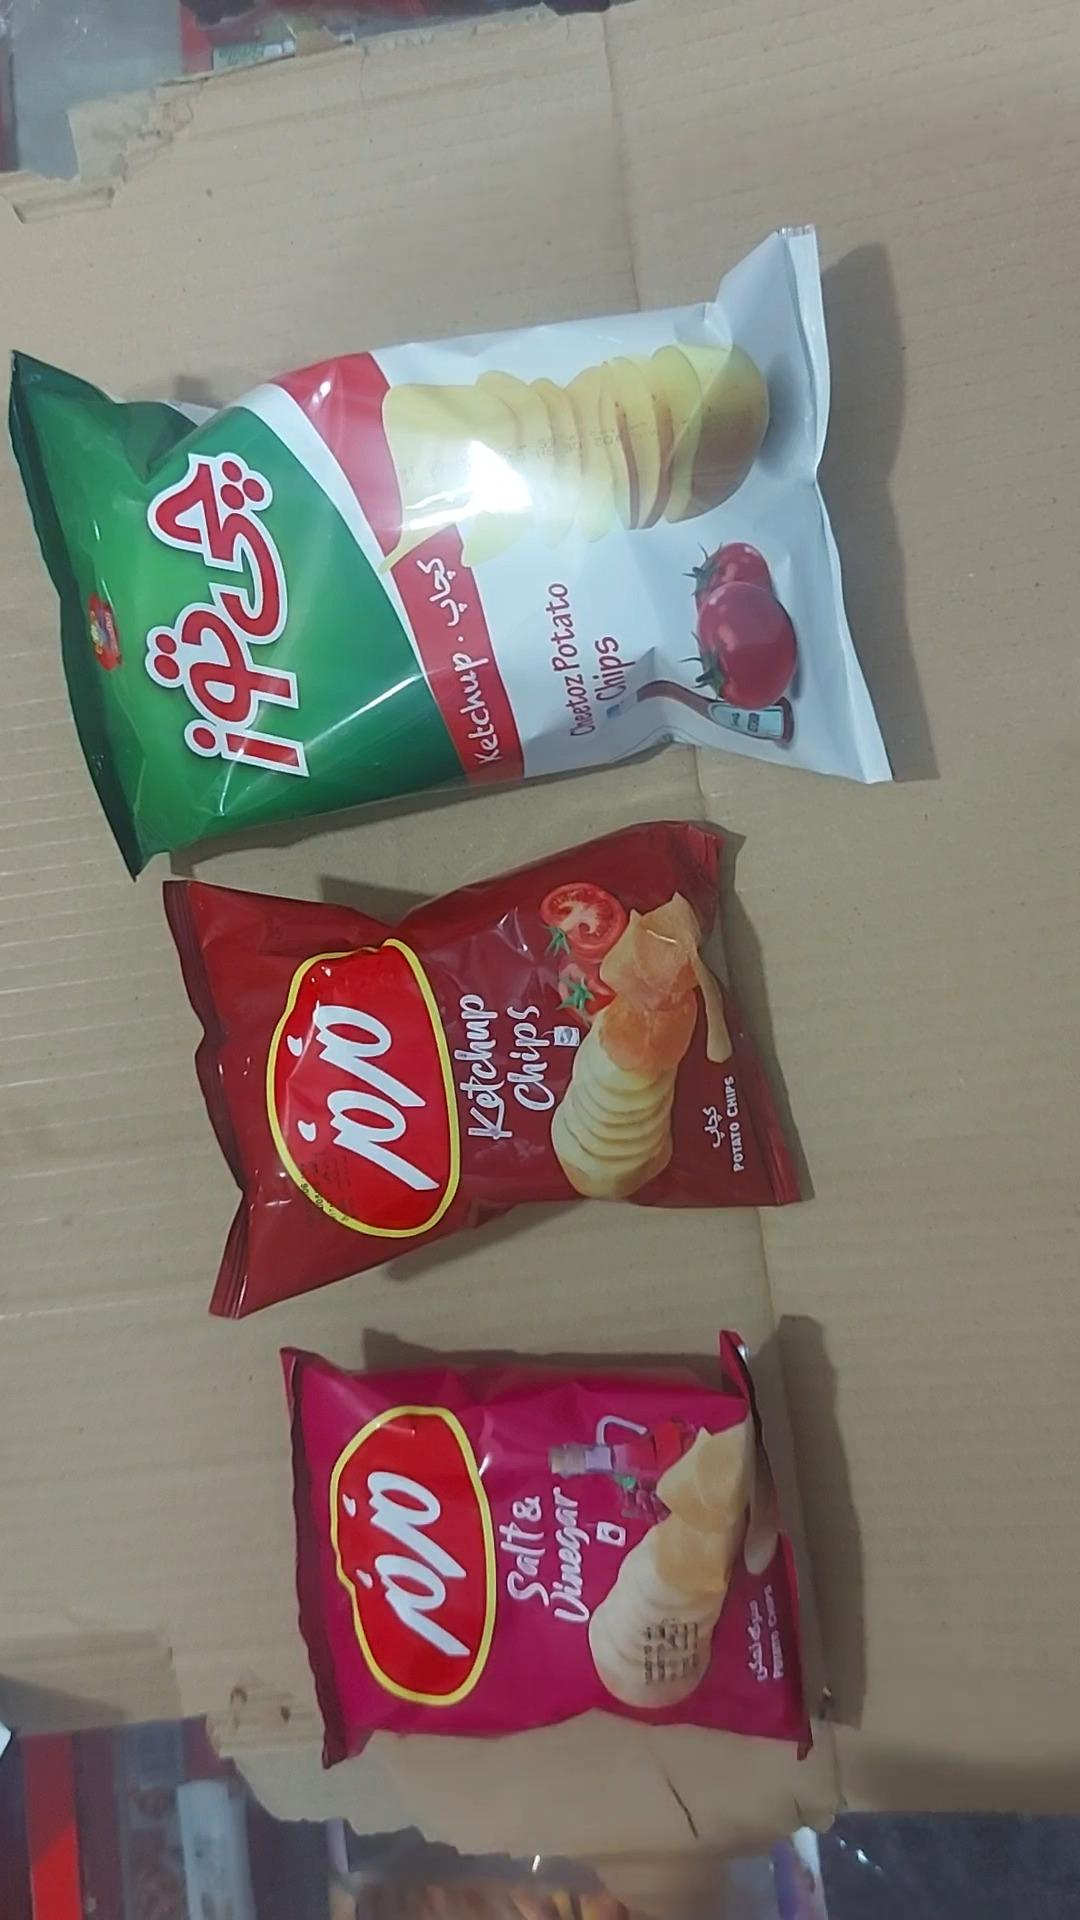Cheetoz ketchup chips: (9, 228, 891, 877)
Maz Maz ketchup chips: (165, 822, 800, 1316)
Maz Maz vinegar chips: (284, 1331, 808, 1766)
